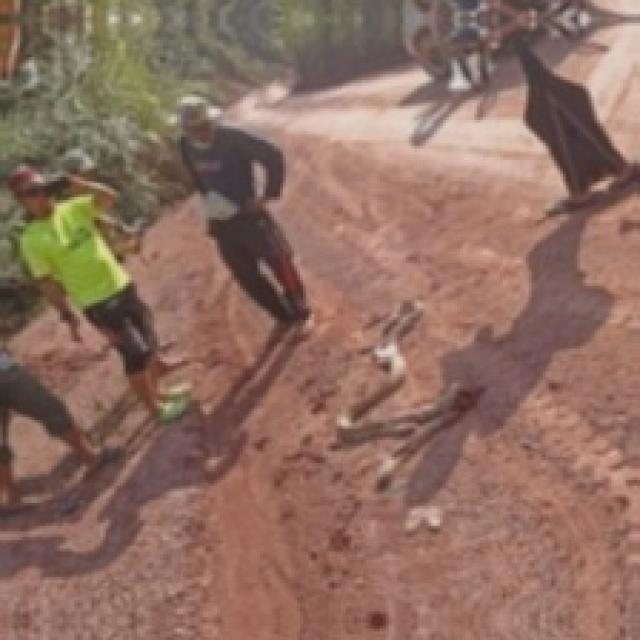king cobra: (403, 0, 637, 140)
